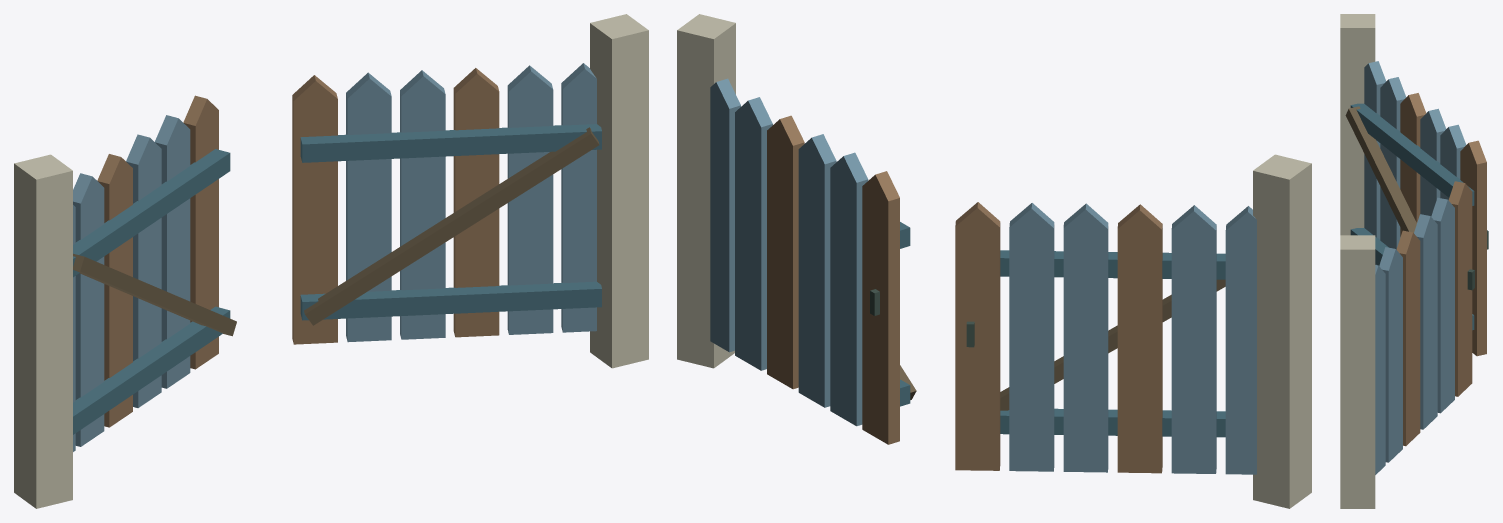
Rendered from ua_gate.obj.
3 renders of one model, left to right at view 1: azimuth 30°, elevation 25°; view 2: azimuth 150°, elevation 25°; view 3: azimuth 270°, elevation 25°, orthographic. The views are drawn at different scales.
Parts seen in each view (by area): view 1: ua_gate; view 2: ua_gate; view 3: ua_gate.
Boxes of the visible parts, left/top/right/bottom form: ua_gate: left=14, top=14, right=648, bottom=508; ua_gate: left=677, top=14, right=1311, bottom=508; ua_gate: left=1340, top=14, right=1488, bottom=508.
Bounding box in the file's own units: 3.66 × 1.88 × 0.9744.
